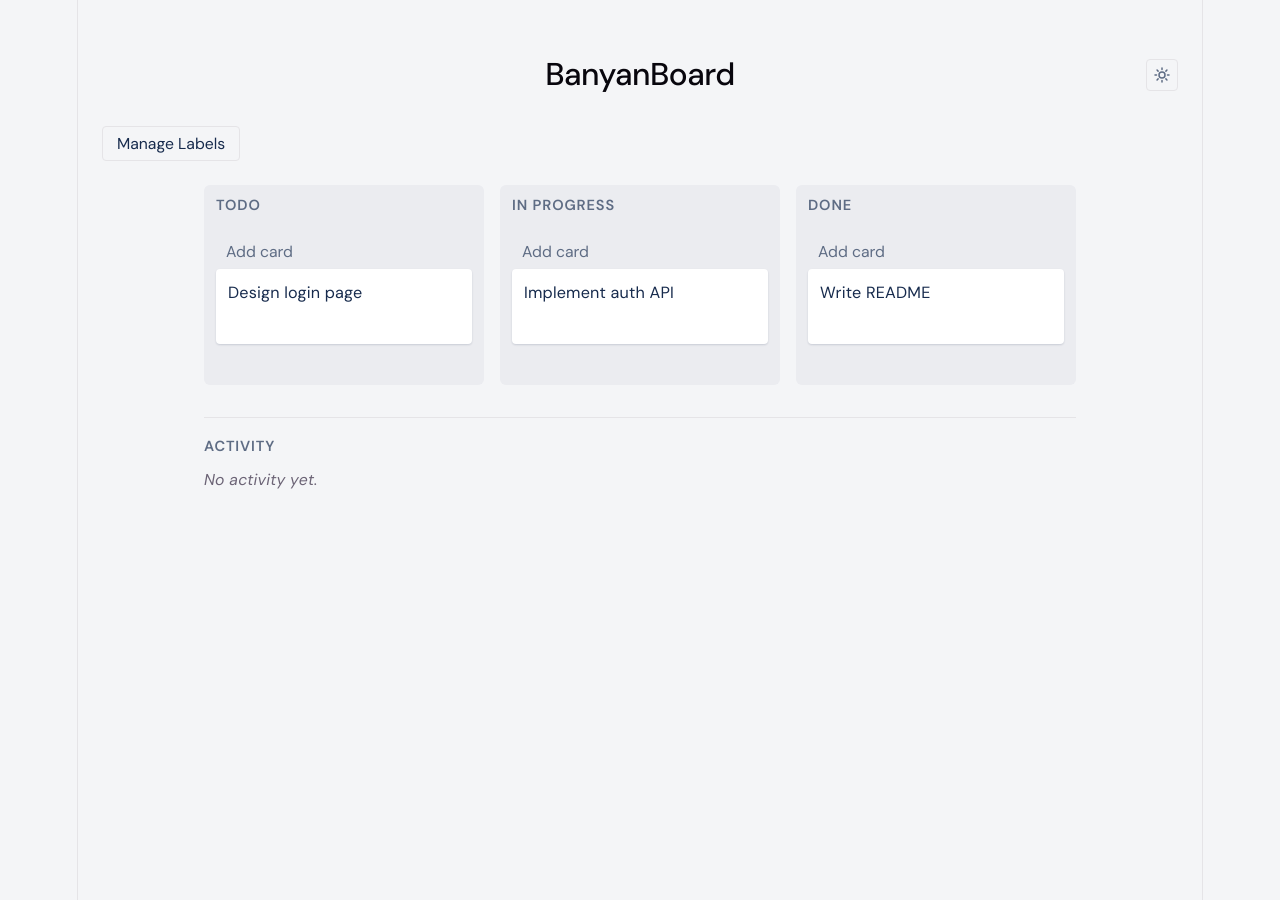
Board feed integration › rolls back card and feed entry and shows error when POST /cards fails
Step 1. Click the button "Add card" below "Todo" → click(344, 252), box [216,234,472,269]
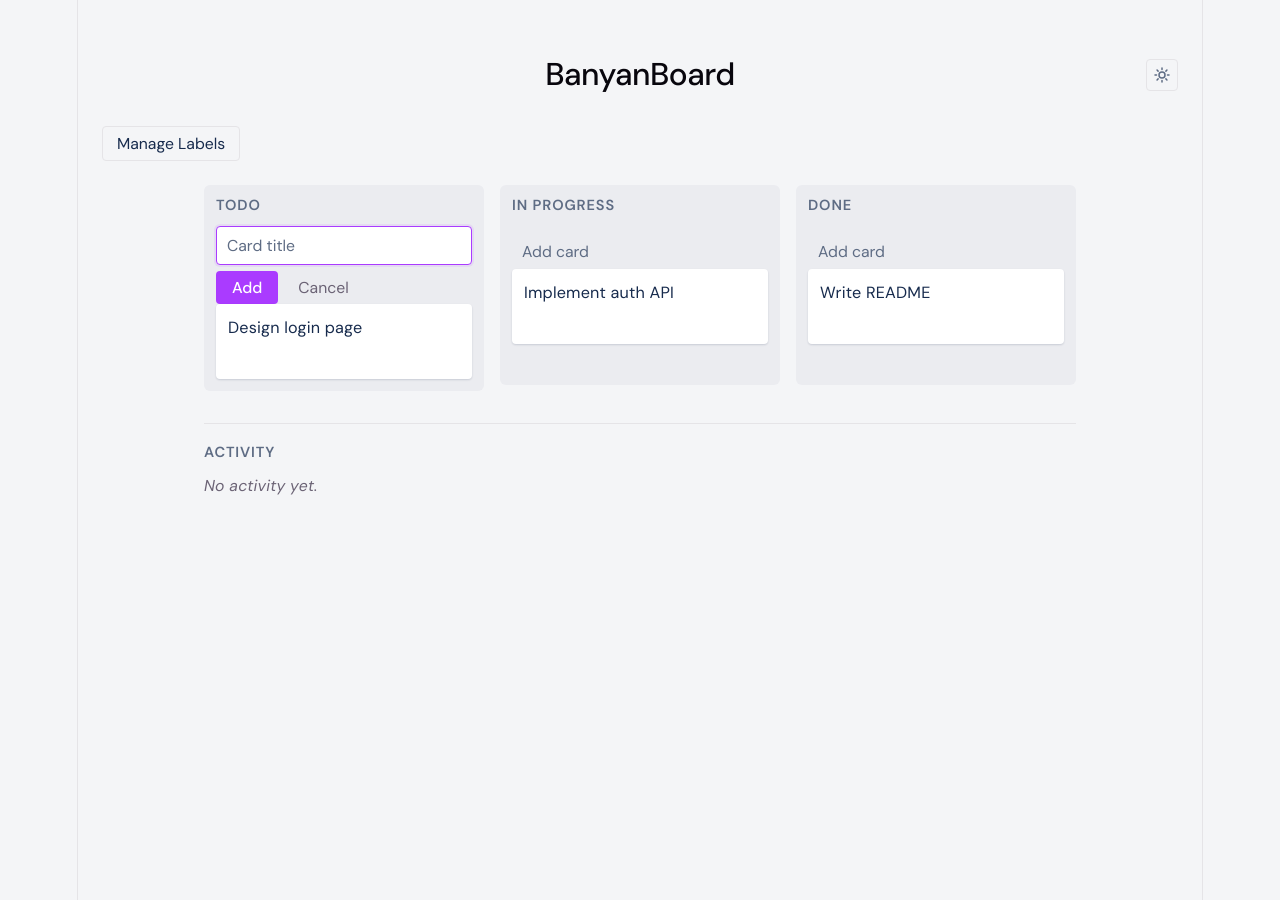
Step 2. Type "Rollback card" into the field labelled "Card title" → (344, 246), box [216,226,472,265]
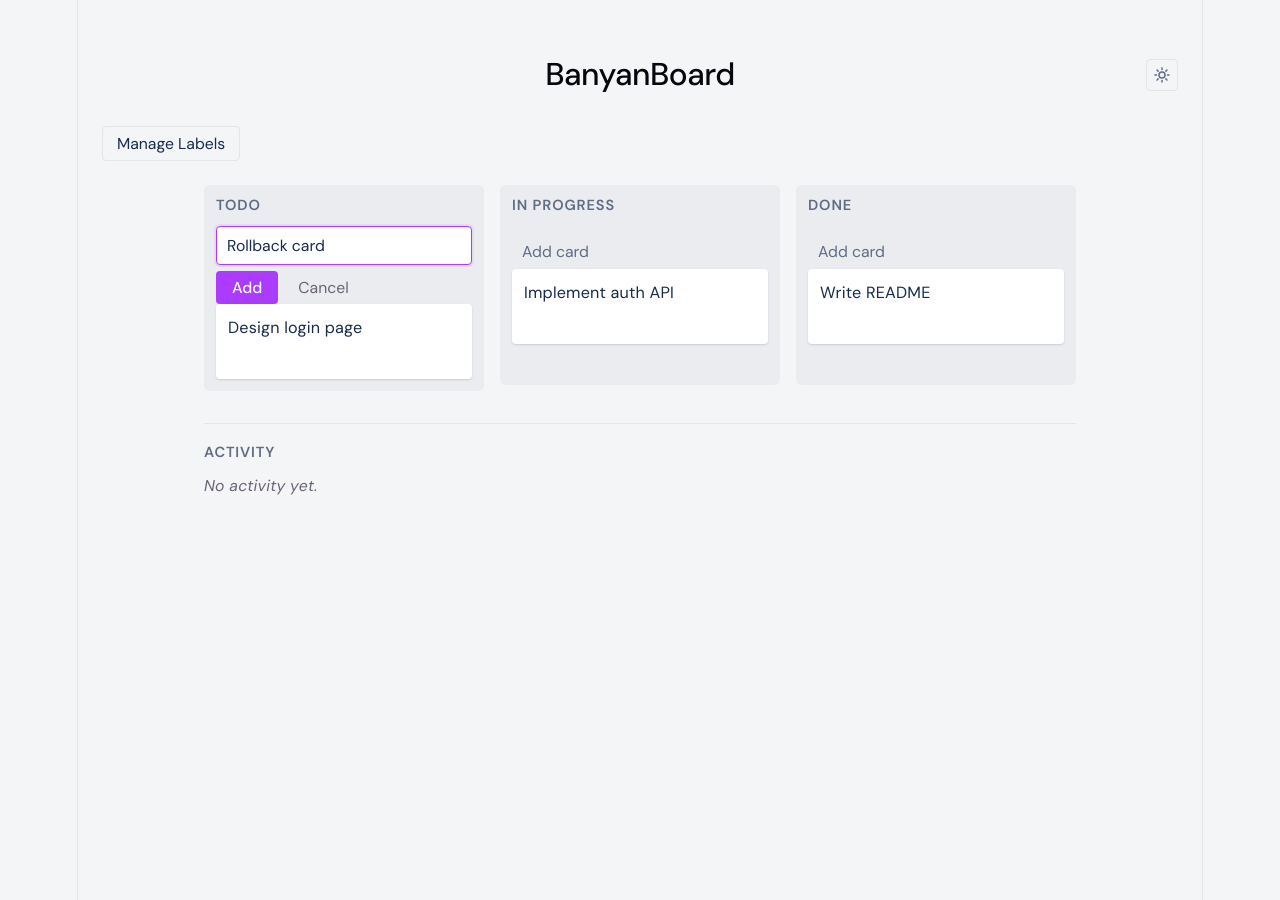
Step 3. Click the button "Add" → click(247, 288), box [216,271,278,304]
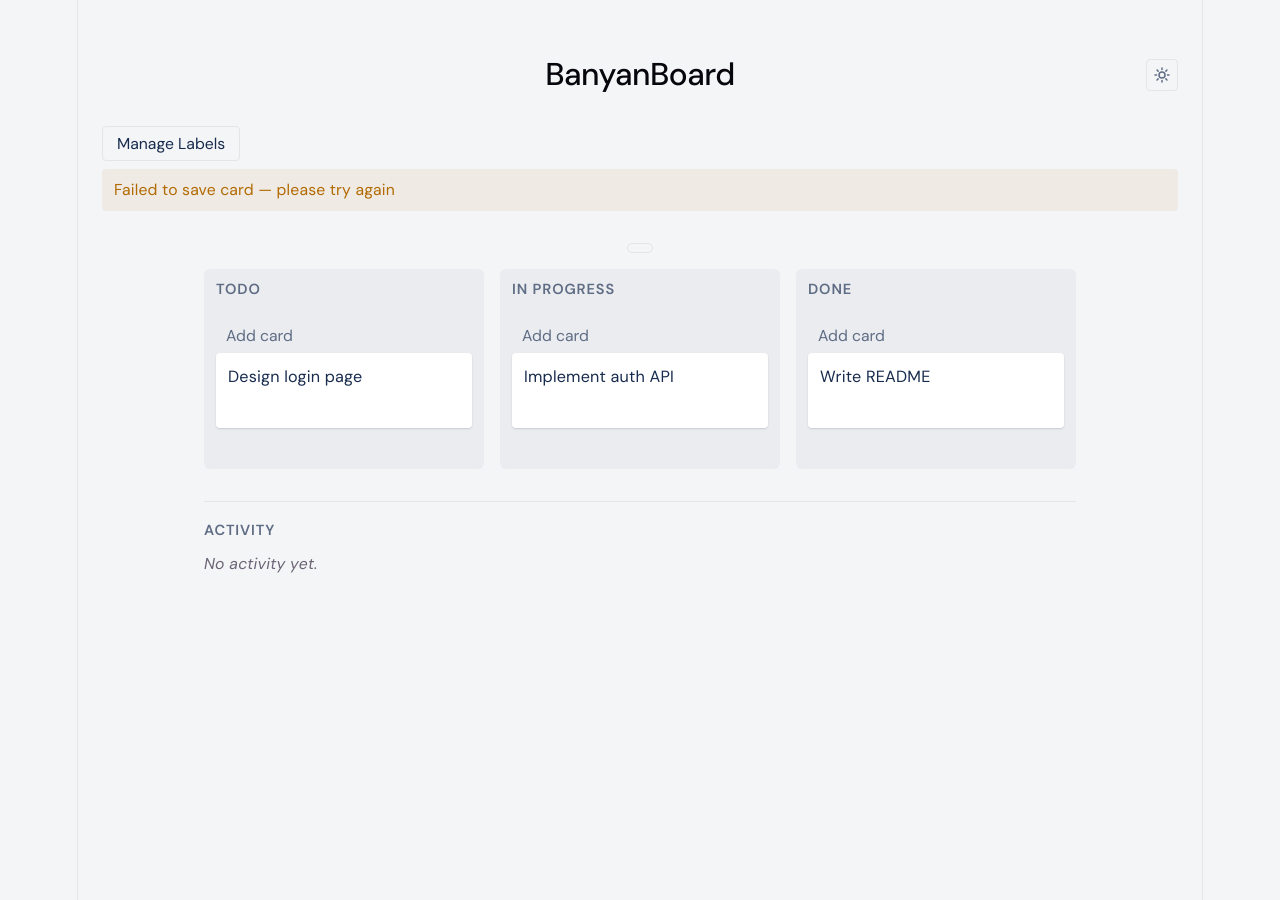
Result: the message shows "Failed to save card" at [114,179,395,200]
